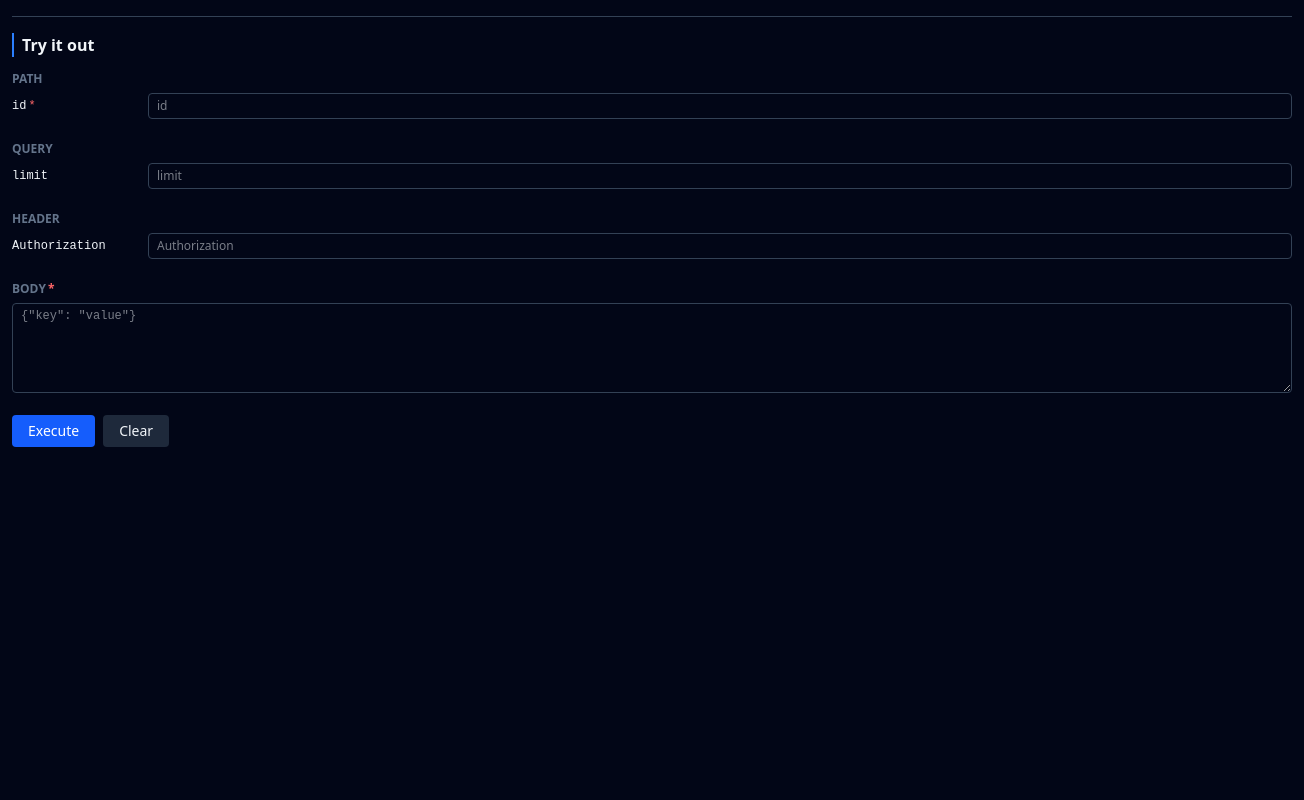
Test case: TryItOut › clears response
The width and height of the screenshot is (1304, 800).
Click the button "Execute".
click(54, 431)  # box [12,415,95,447]
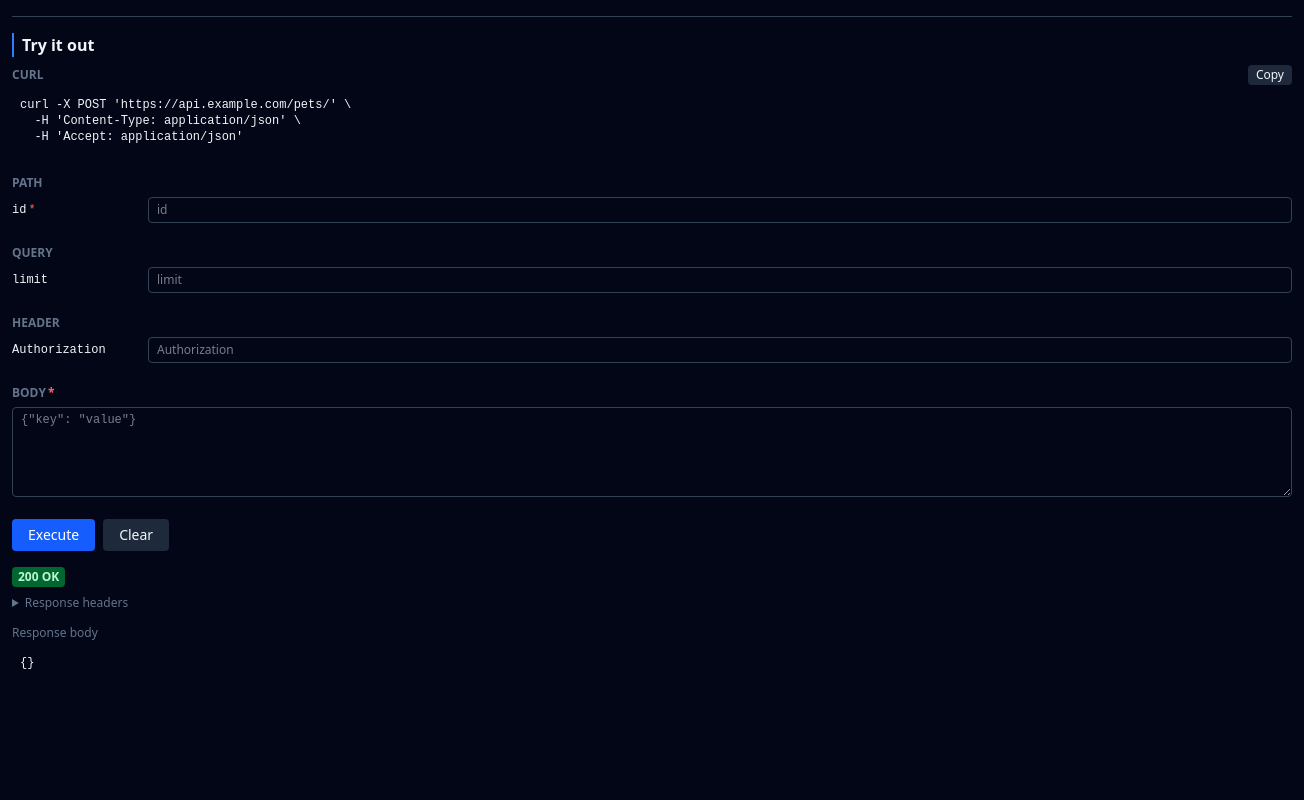
Now the text "200 OK" is shown, box [12,567,65,587]
Click the button "Clear".
click(136, 535)  # box [103,519,169,551]
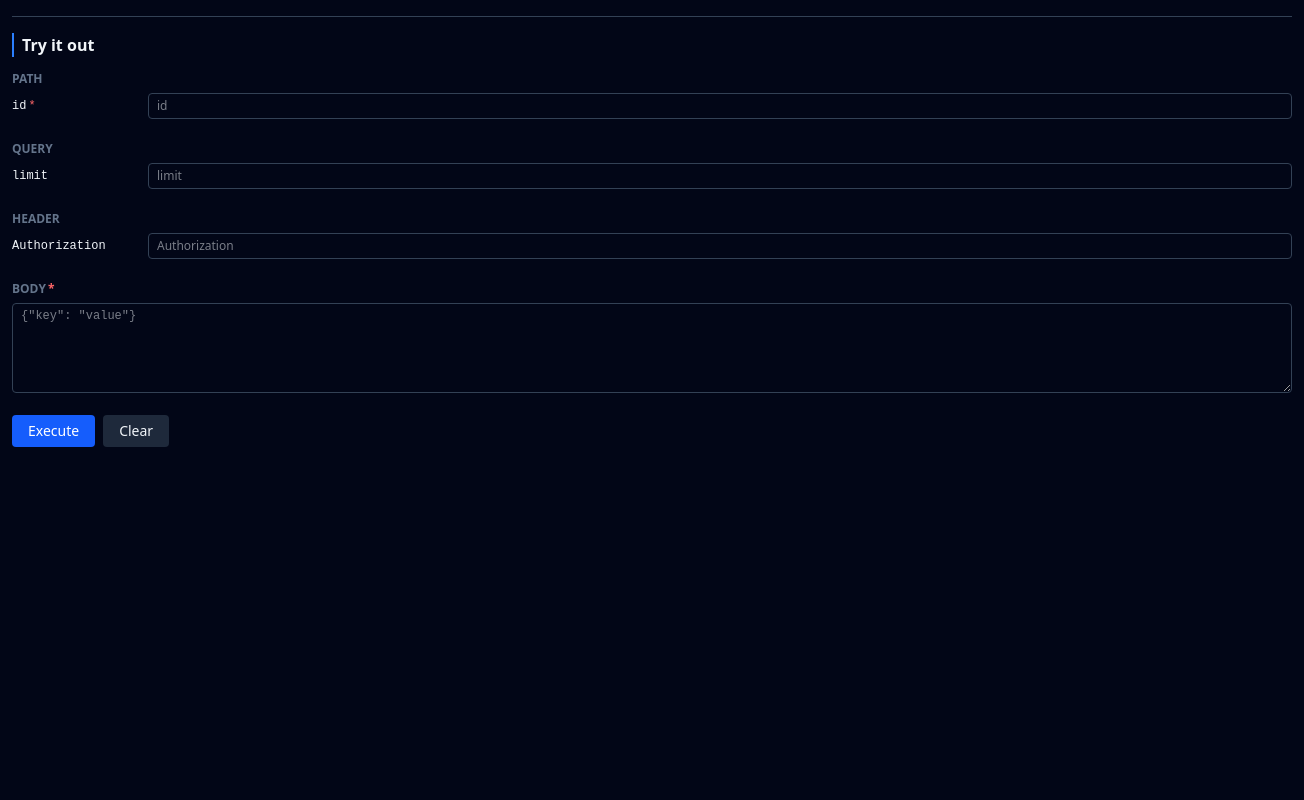
Now the text "200 OK" is gone
